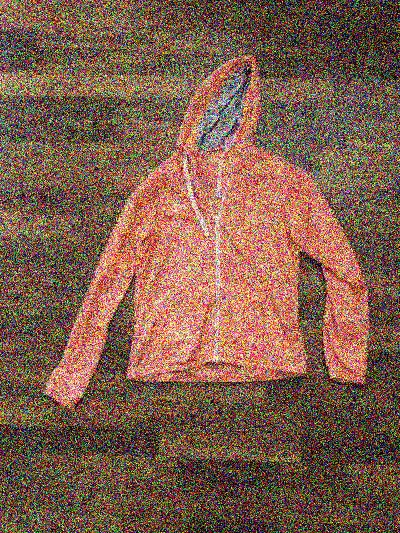Hoodie: (51, 63, 372, 440)
